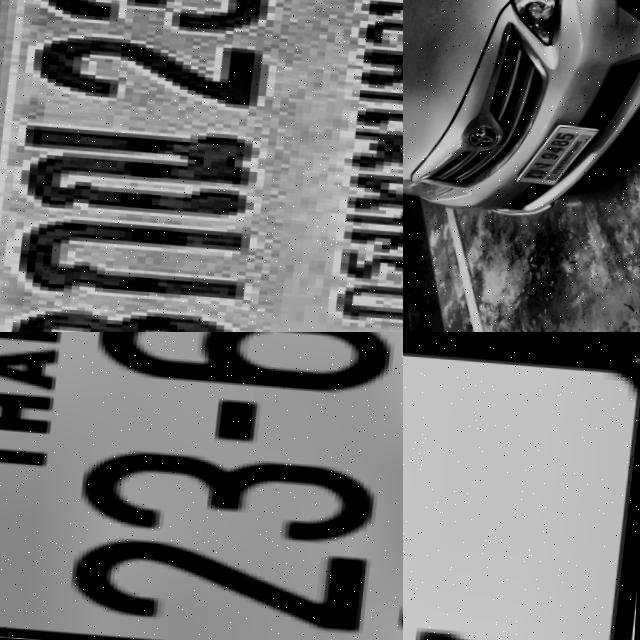license-plate: (0, 0, 403, 332), (0, 332, 403, 640), (403, 332, 640, 640), (515, 116, 610, 188)
